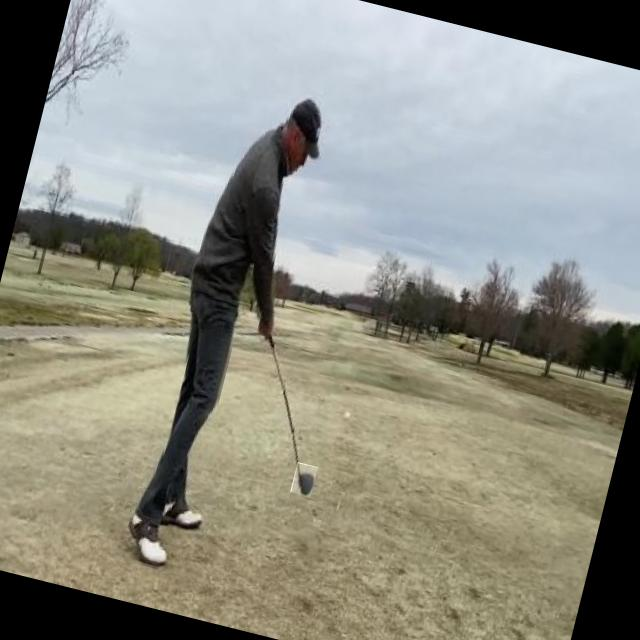club head: (290, 462, 318, 496)
